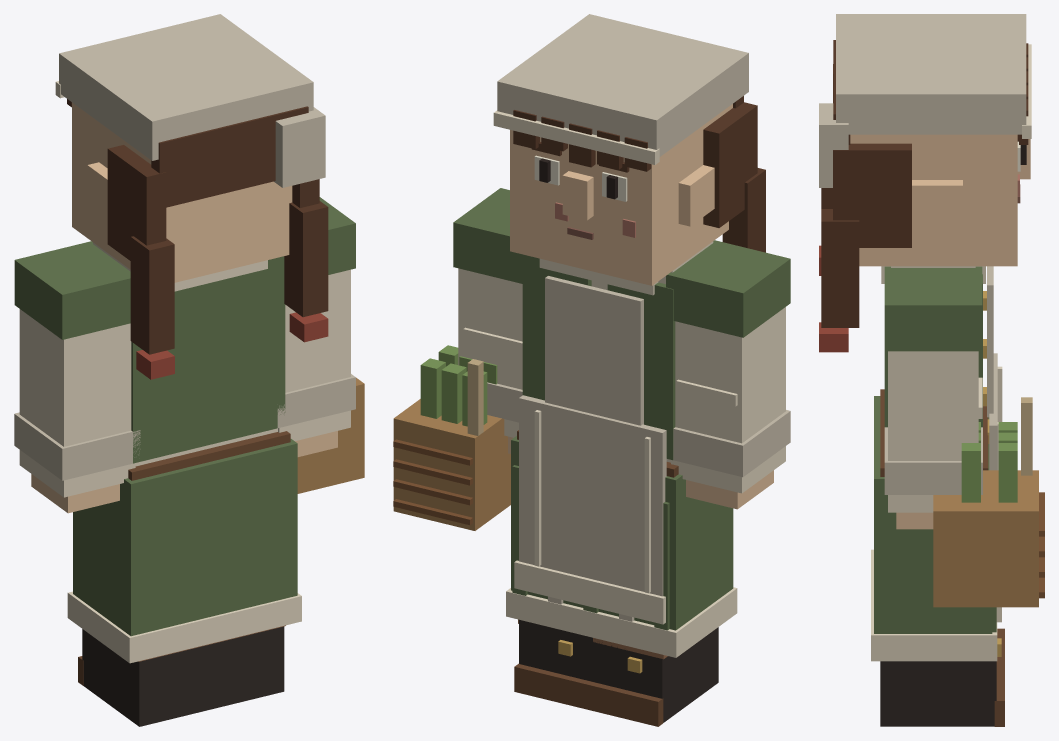
File: young_townswoman.obj
3 views of the same model, side by side, from view 1: azimuth 30°, elevation 25°; view 2: azimuth 150°, elevation 25°; view 3: azimuth 270°, elevation 25° (orthographic). The views are drawn at different scales.
Parts seen in each view (by area): view 1: head, body, right_arm, left_arm, right_leg, left_leg, equipment_left; view 2: body, head, right_arm, equipment_left, left_arm, right_leg, left_leg; view 3: head, left_arm, body, equipment_left, left_leg.
Part boxes in pixels (x1,y1,x2,y2): head: (55, 14, 328, 379); body: (67, 242, 301, 663); right_arm: (14, 241, 140, 513); left_arm: (277, 197, 355, 456); right_leg: (78, 629, 215, 726); left_leg: (209, 625, 285, 708); equipment_left: (297, 377, 364, 493); body: (506, 241, 737, 657); head: (493, 14, 765, 285); right_arm: (666, 240, 790, 509); equipment_left: (393, 345, 510, 530); left_arm: (453, 188, 522, 453); right_leg: (583, 627, 718, 726); left_leg: (514, 619, 592, 708); head: (819, 14, 1031, 352); left_arm: (884, 266, 982, 529); body: (871, 266, 1002, 661); equipment_left: (933, 397, 1044, 607); left_leg: (880, 638, 1004, 726).
Bounding box in the file's own units: 1.14 × 2.08 × 0.6675.
